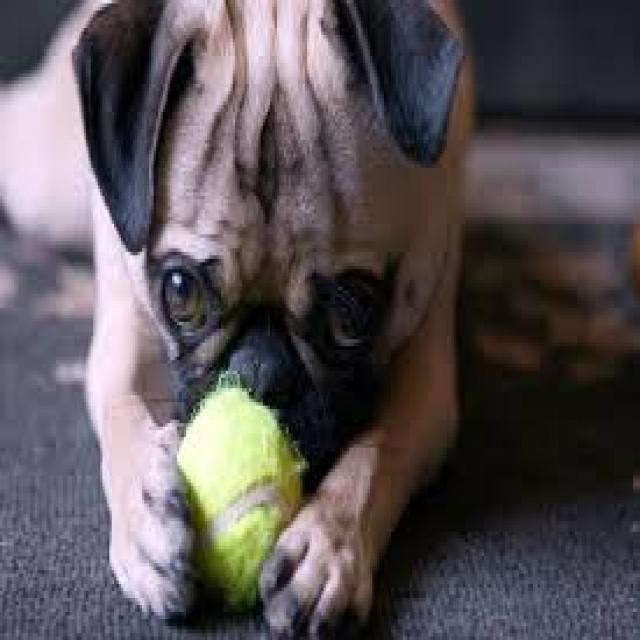Tennis-Ball: (165, 364, 300, 591)
